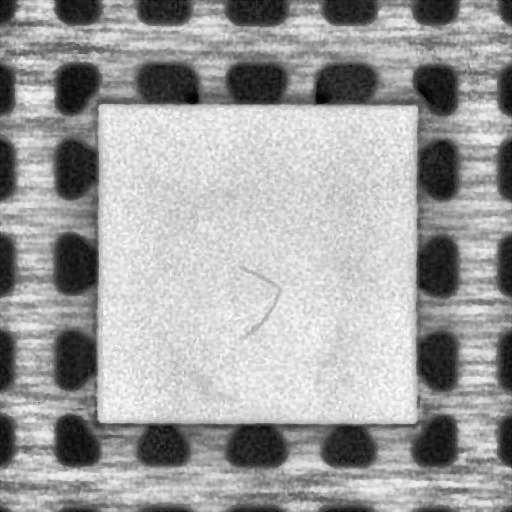DIE_CRACK: (233, 262, 284, 341)
